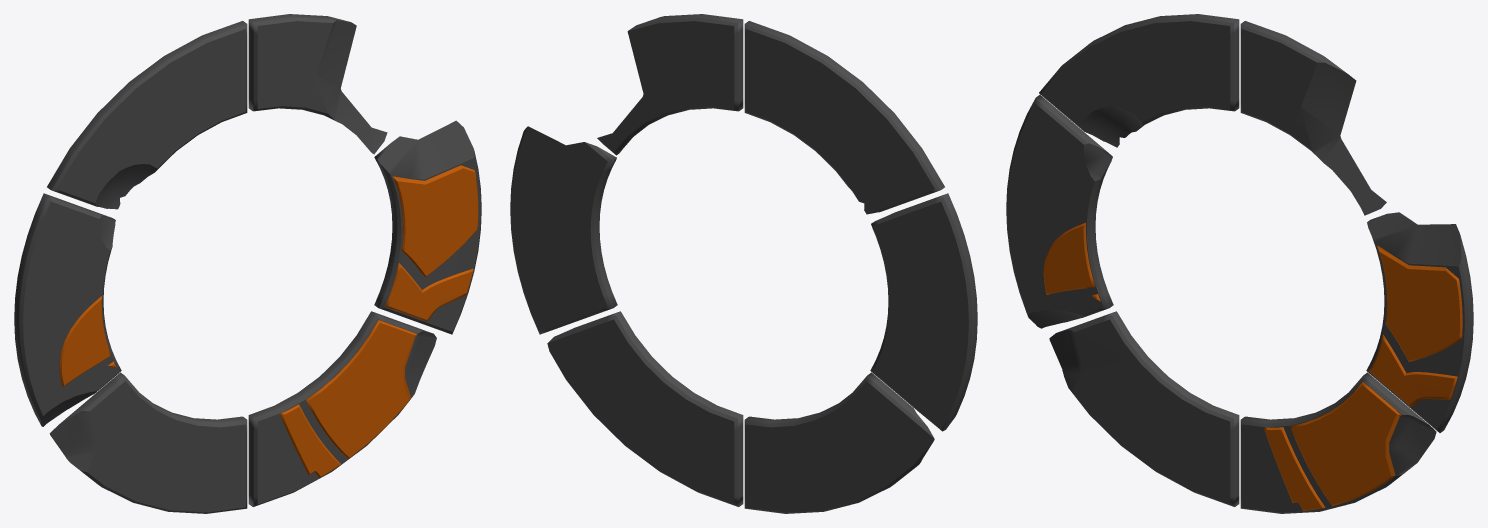
Rendered from stele_outer.fbx.
3 renders of one model, left to right at view 1: azimuth 30°, elevation 25°; view 2: azimuth 150°, elevation 25°; view 3: azimuth 330°, elevation 25°, orthographic.
Visible parts, largest first — view 1: polySurface39, polySurface37, polySurface44, polySurface34, polySurface51, stele_v5_Depa_profile_polySurface20, polySurface47, stele_v5_Depa_profile_polySurface19, stele_v5_Depa_profile_polySurface18, stele_v5_Depa_profile_polySurface22, stele_v5_Depa_profile_polySurface17; view 2: polySurface39, polySurface47, polySurface44, polySurface37, polySurface51, polySurface34; view 3: polySurface37, polySurface39, polySurface44, polySurface34, polySurface51, stele_v5_Depa_profile_polySurface20, polySurface47, stele_v5_Depa_profile_polySurface19, stele_v5_Depa_profile_polySurface22, stele_v5_Depa_profile_polySurface18, stele_v5_Depa_profile_polySurface17.
Part boxes in pixels (x1=…): polySurface39: x1=47, y1=21, x2=247, y2=209; polySurface37: x1=49, y1=372, x2=247, y2=513; polySurface44: x1=14, y1=193, x2=121, y2=426; polySurface34: x1=248, y1=14, x2=387, y2=154; polySurface51: x1=374, y1=120, x2=481, y2=334; stele_v5_Depa_profile_polySurface20: x1=306, y1=320, x2=417, y2=458; polySurface47: x1=248, y1=311, x2=436, y2=506; stele_v5_Depa_profile_polySurface19: x1=393, y1=165, x2=478, y2=277; stele_v5_Depa_profile_polySurface18: x1=59, y1=296, x2=111, y2=387; stele_v5_Depa_profile_polySurface22: x1=385, y1=263, x2=473, y2=321; stele_v5_Depa_profile_polySurface17: x1=279, y1=404, x2=340, y2=477; polySurface39: x1=744, y1=21, x2=944, y2=214; polySurface47: x1=547, y1=311, x2=743, y2=506; polySurface44: x1=870, y1=193, x2=977, y2=431; polySurface37: x1=744, y1=372, x2=934, y2=513; polySurface51: x1=510, y1=126, x2=617, y2=334; polySurface34: x1=597, y1=14, x2=743, y2=155; polySurface37: x1=1049, y1=311, x2=1239, y2=506; polySurface39: x1=1039, y1=14, x2=1239, y2=147; polySurface44: x1=1006, y1=95, x2=1113, y2=328; polySurface34: x1=1240, y1=21, x2=1386, y2=215; polySurface51: x1=1366, y1=212, x2=1473, y2=432; stele_v5_Depa_profile_polySurface20: x1=1290, y1=382, x2=1401, y2=506; polySurface47: x1=1240, y1=372, x2=1436, y2=513; stele_v5_Depa_profile_polySurface19: x1=1377, y1=245, x2=1462, y2=361; stele_v5_Depa_profile_polySurface22: x1=1369, y1=335, x2=1457, y2=406; stele_v5_Depa_profile_polySurface18: x1=1043, y1=223, x2=1095, y2=294; stele_v5_Depa_profile_polySurface17: x1=1264, y1=427, x2=1325, y2=510.
Size of the model in its own units: 15.77 by 15.77 by 0.5135.
